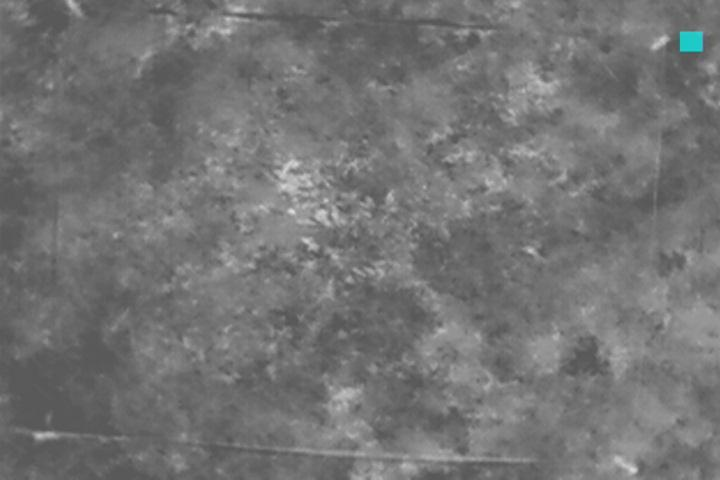landmine: (278, 156, 336, 205)
